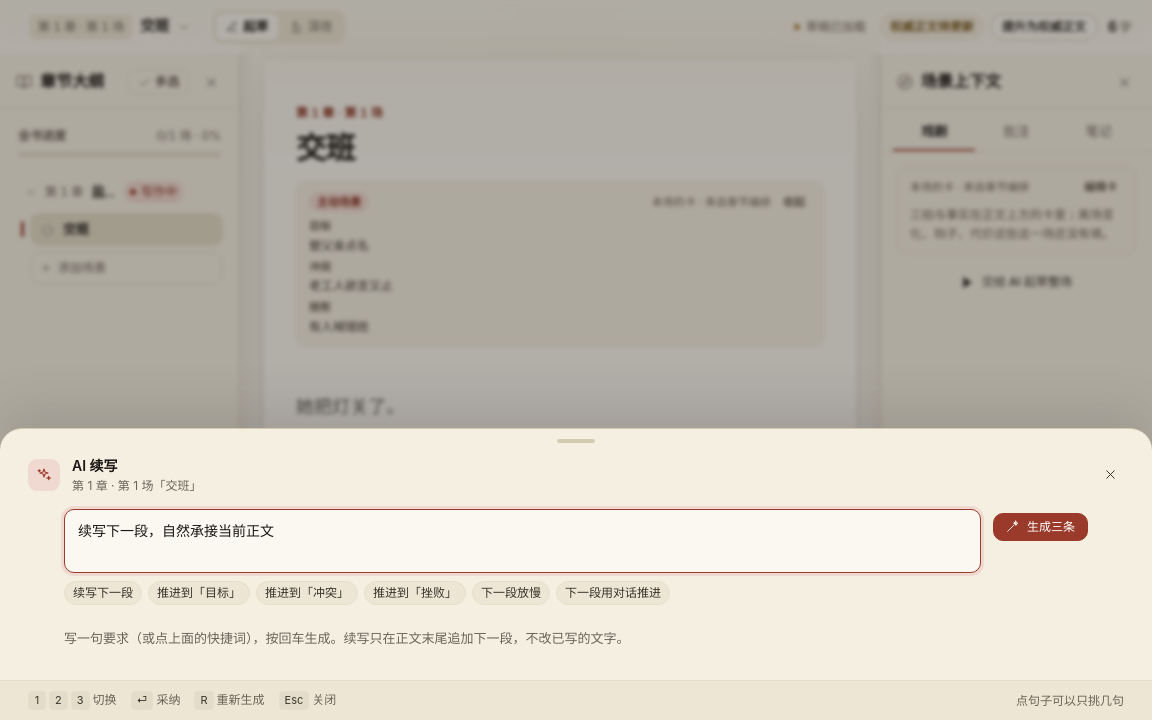
Test: 写作台 · 续写托盘的快捷键只认托盘里的按键 › 候选栏可以用 Tab 走到：在那里按 2 选第二条、输入法组字的回车不采纳、真正的回车采纳第二条
Click the button "生成三条" at (1040, 526), box [993, 512, 1088, 540]
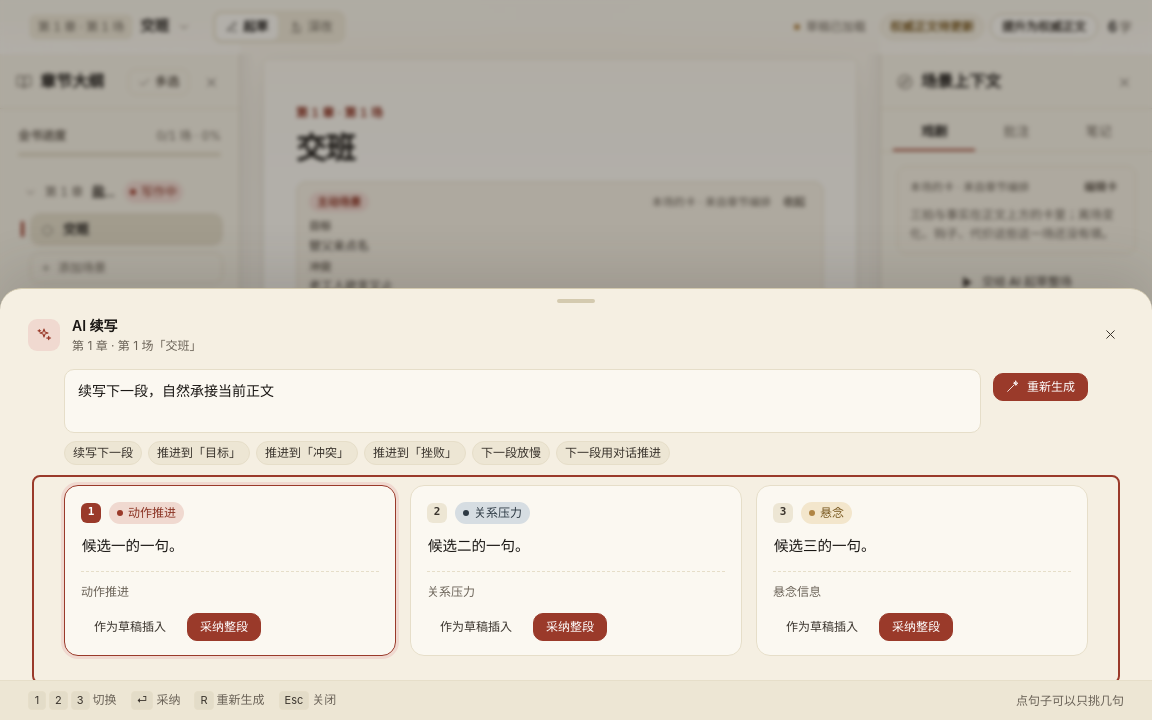
Now the number of elements with class "wr-cand" is 3, box [64, 485, 396, 656]; [410, 485, 742, 656]; [756, 485, 1088, 656]
Press 2 in the element with class "wr-cands", box [36, 479, 1116, 680]
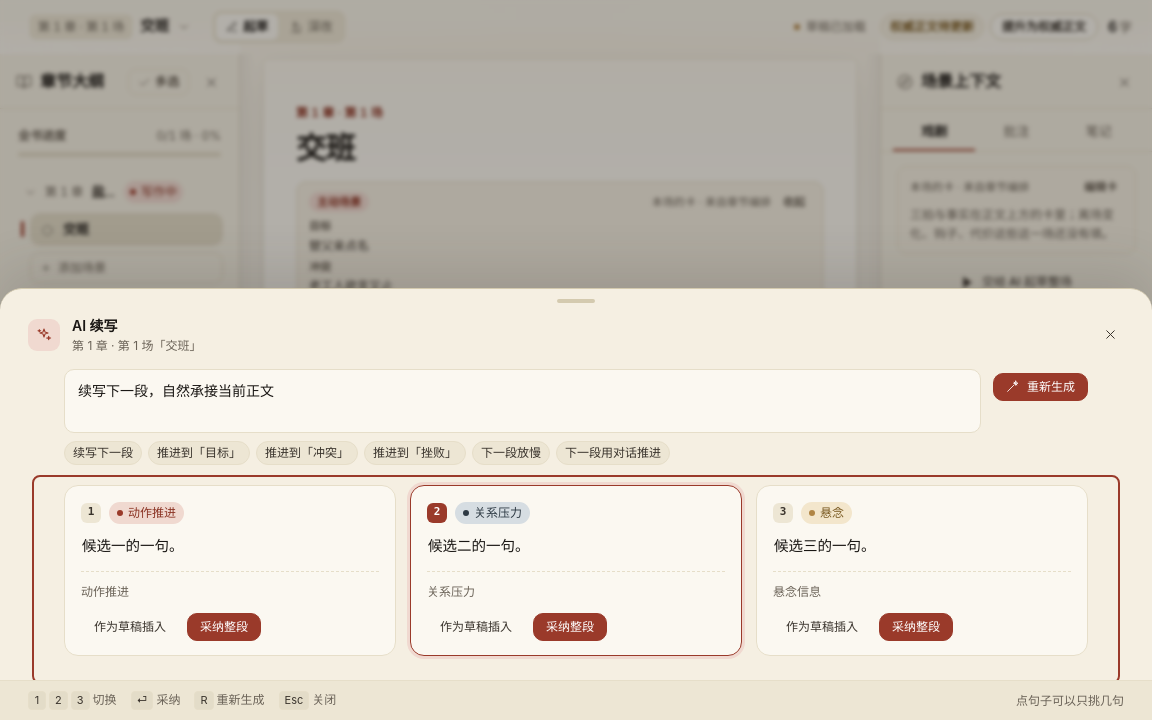
Now the element with class "wr-cand" has class "is-sel", box [410, 485, 742, 656]
Press Enter in the element with class "wr-cands", box [36, 479, 1116, 680]
Press Enter in the element with class "wr-cands", box [36, 479, 1116, 680]
Expected: the element with class "wr-editor" does not show "候选二"
Press Enter in the element with class "wr-cands", box [36, 479, 1116, 680]
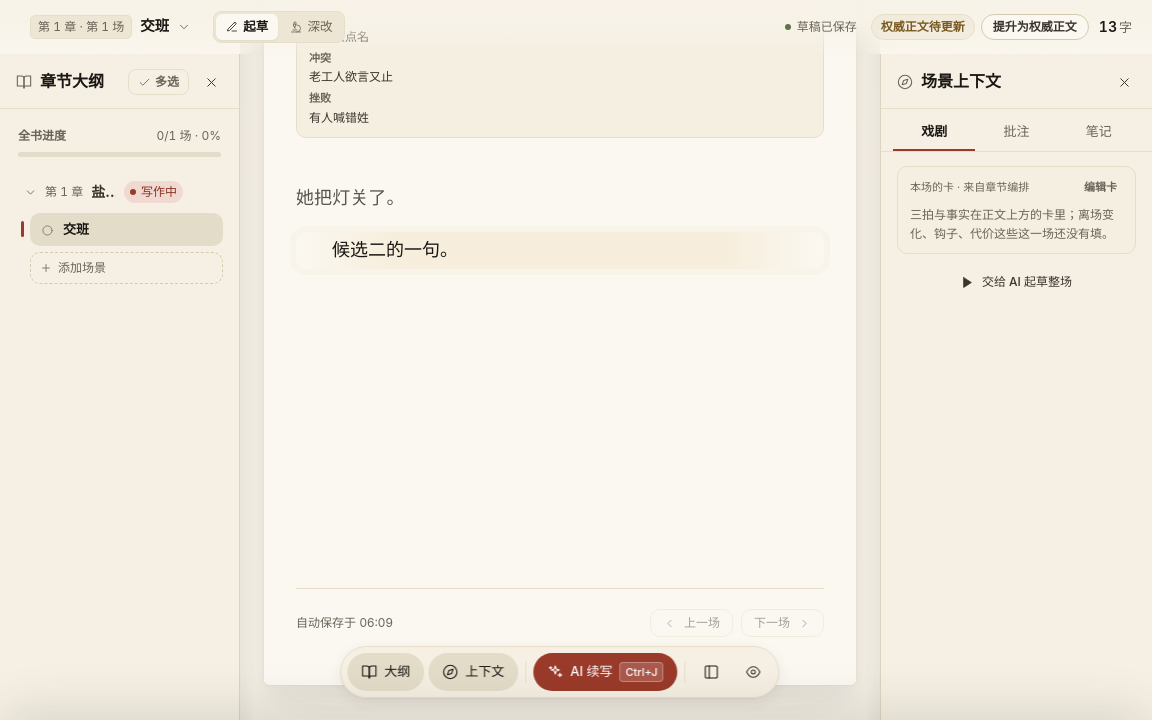
Now the field with class "wr-editor" shows "候选二的一句。", box [296, 188, 824, 269]
Now the text with class "wr-editor" no longer shows "候选一"
